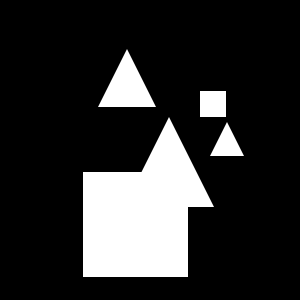circle: (83, 172, 188, 277), (200, 91, 226, 117)
triangle: (124, 117, 214, 207), (98, 49, 156, 107), (210, 122, 244, 156)
